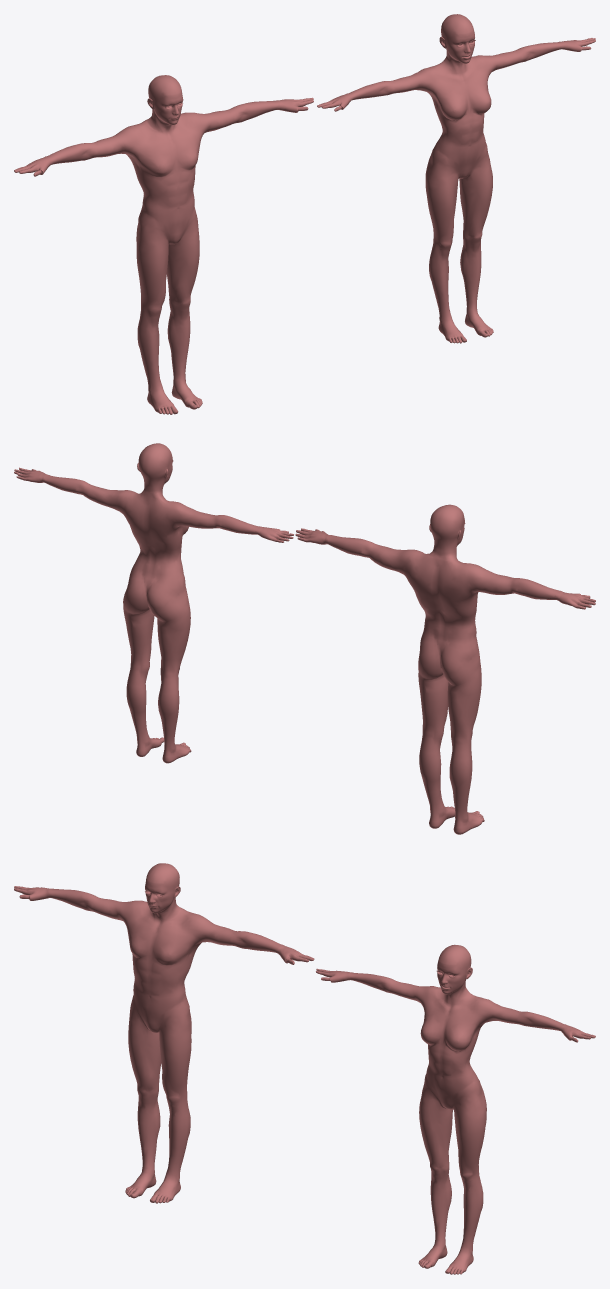
The model's file is male_and_female_basemeshes_-_3d_study_pack.glb.
3 renders of one model, top to bottom at view 1: azimuth 30°, elevation 25°; view 2: azimuth 150°, elevation 25°; view 3: azimuth 330°, elevation 25°, orthographic.
Parts seen in each view (by area): view 1: Object_3, Object_2; view 2: Object_3, Object_2; view 3: Object_3, Object_2.
Boxes of the visible parts, x1,y1,x2,y2 form: Object_3: (14,75,313,414); Object_2: (317,14,595,343); Object_3: (295,504,595,834); Object_2: (14,443,293,763); Object_3: (14,863,314,1203); Object_2: (316,944,595,1274).
Bounding box in the file's own units: 18.77 × 9.97 × 1.89.
